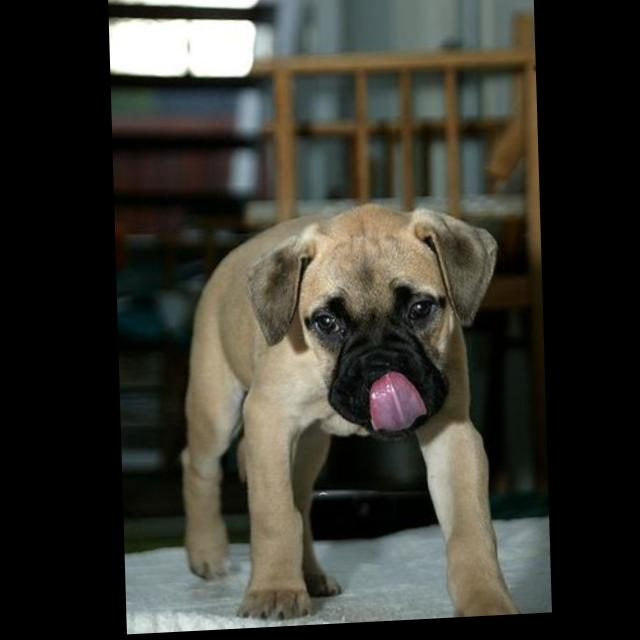bullmastiff: (171, 200, 531, 634)
